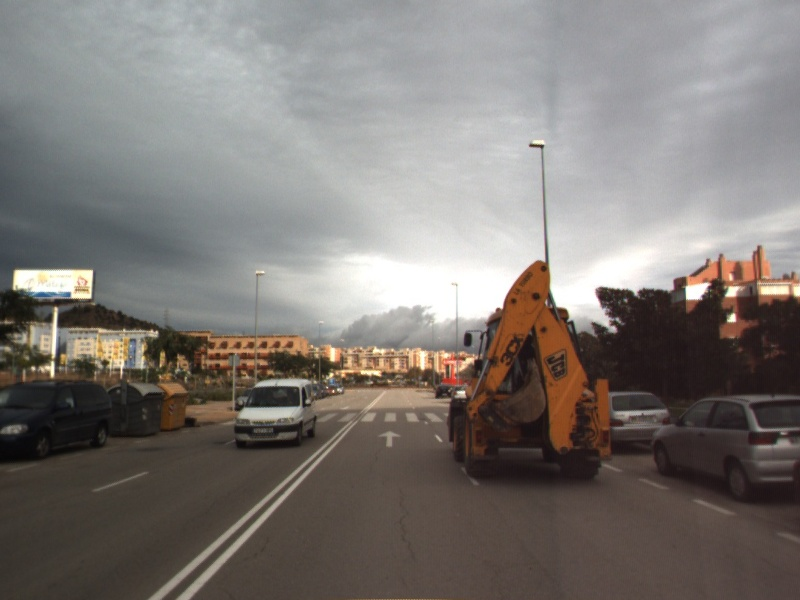STRAIGHT: (376, 428, 404, 449)
